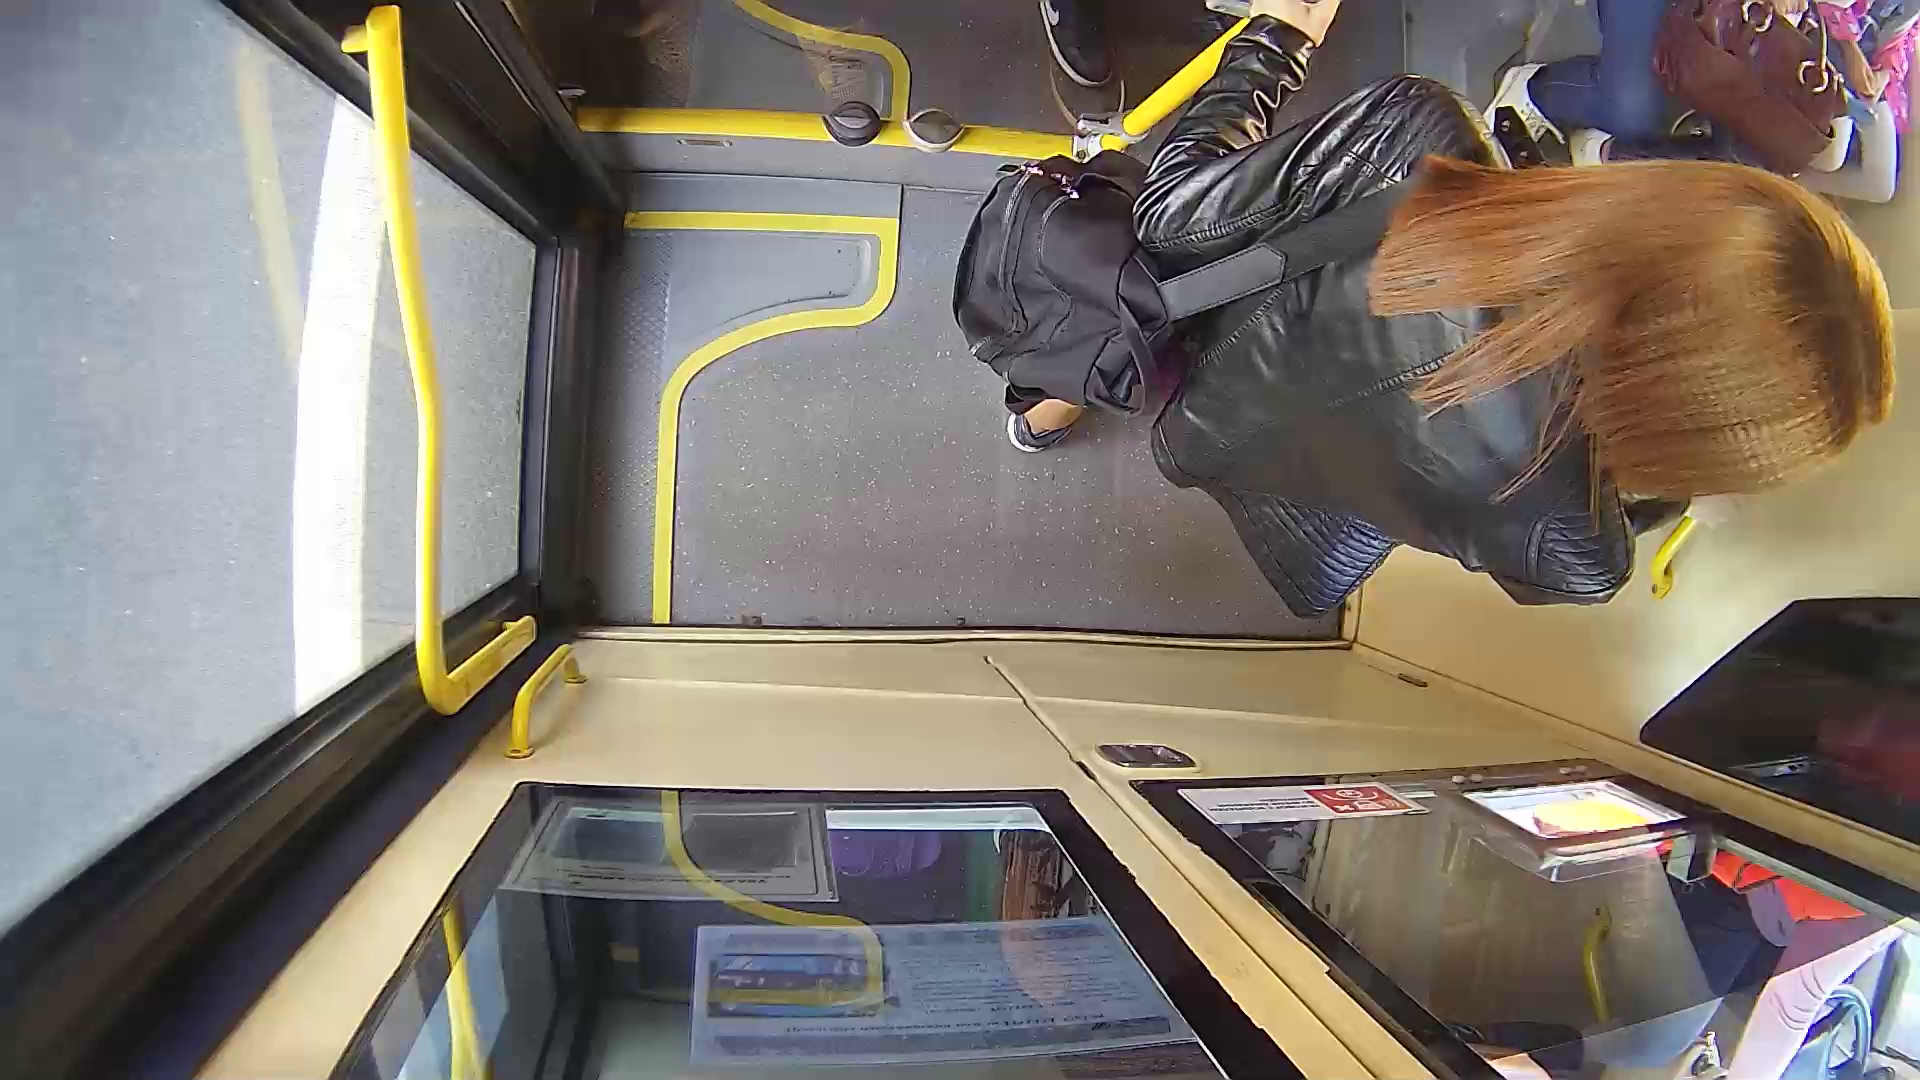person: (964, 88, 1902, 604)
